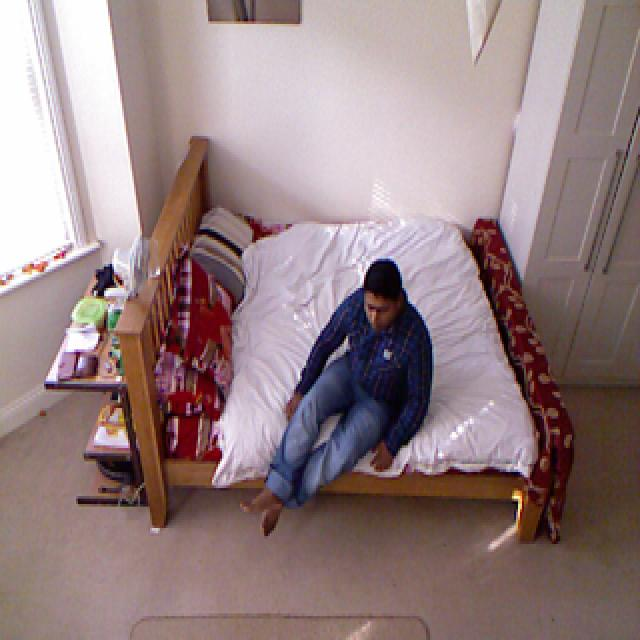sitting: (242, 257, 439, 547)
